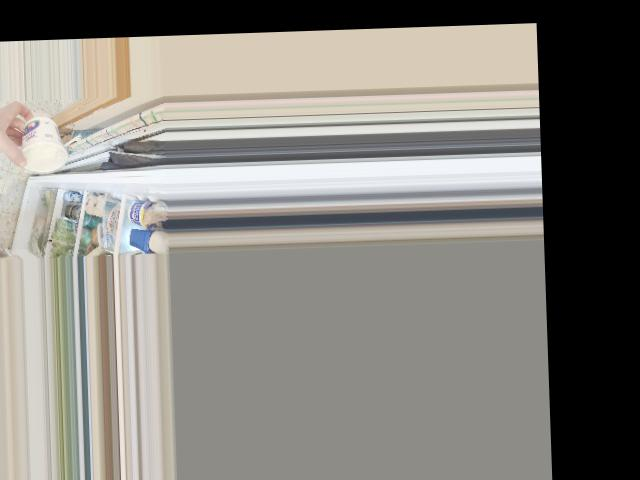cotage: (17, 117, 66, 178)
